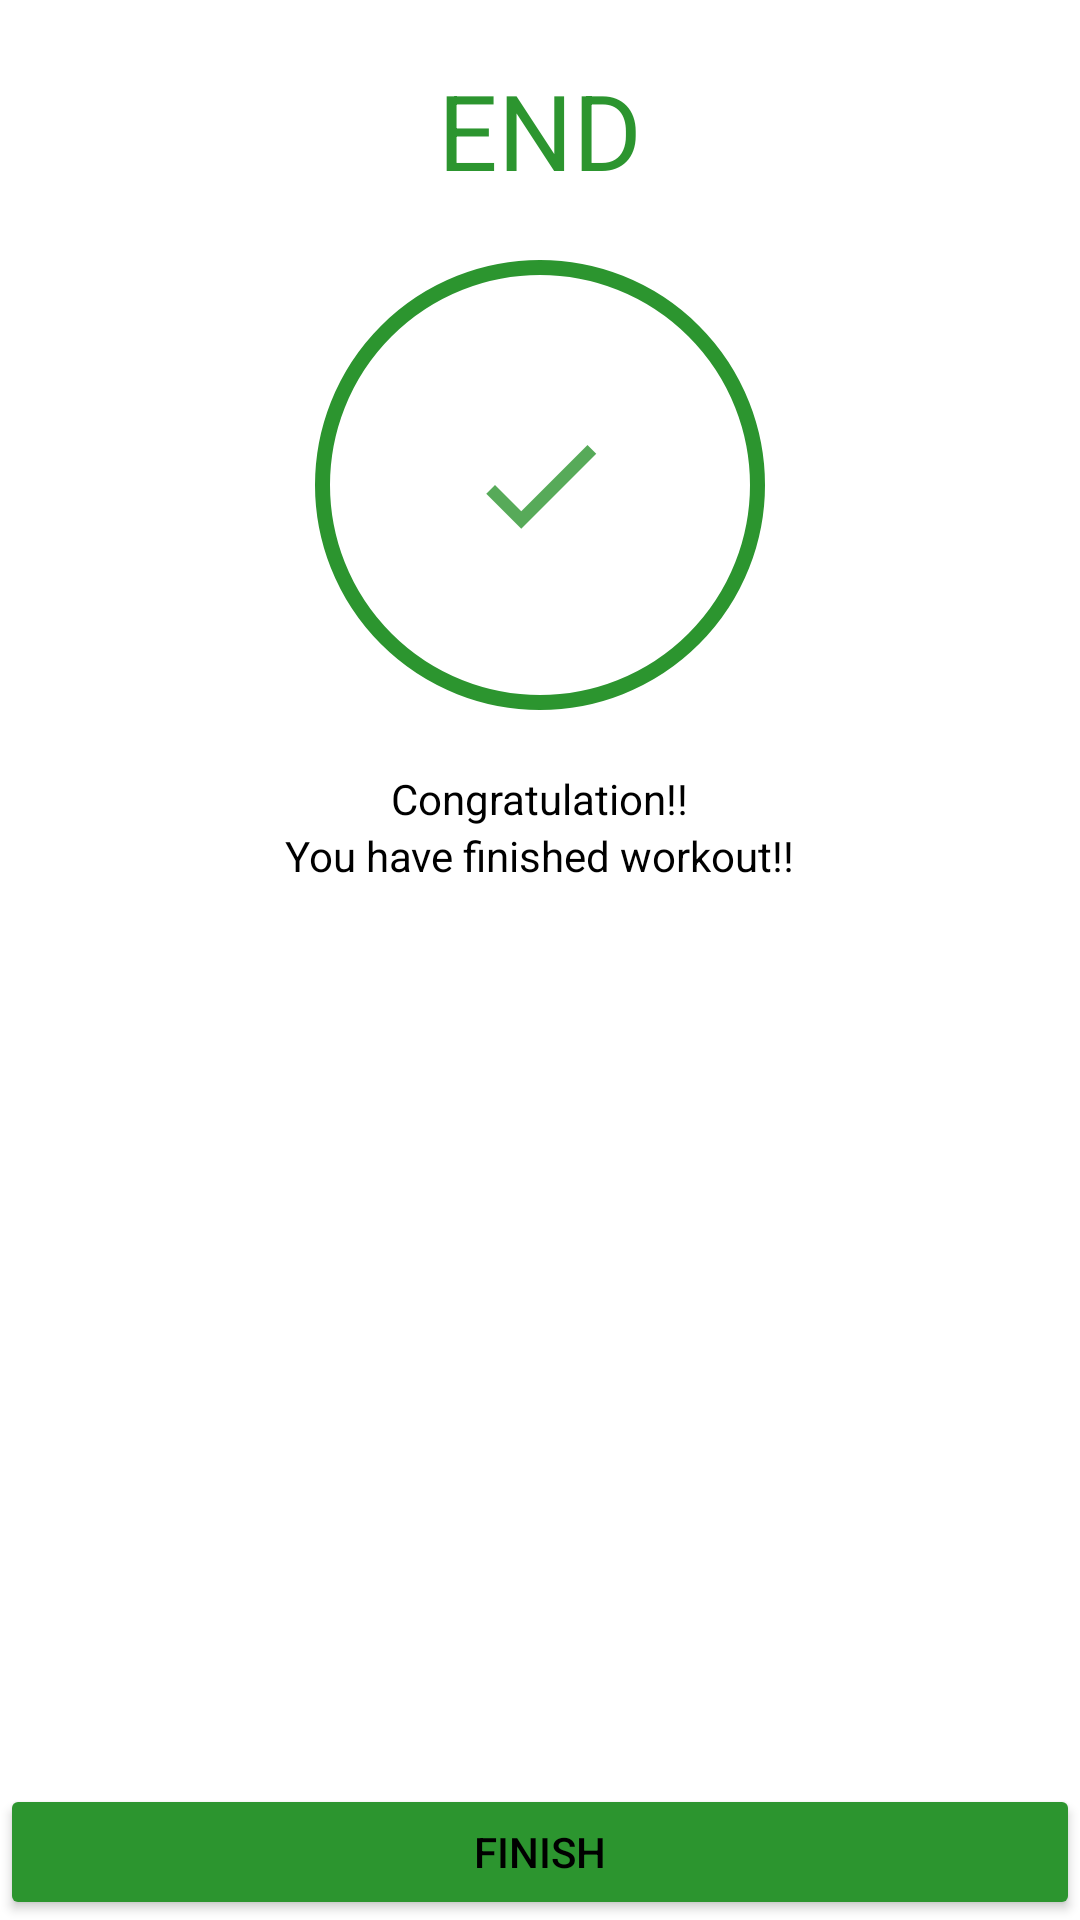

Where to tap for icons on this 1080px×1920px app screen, as (x=x, y=y):
done: (x=541, y=487)
